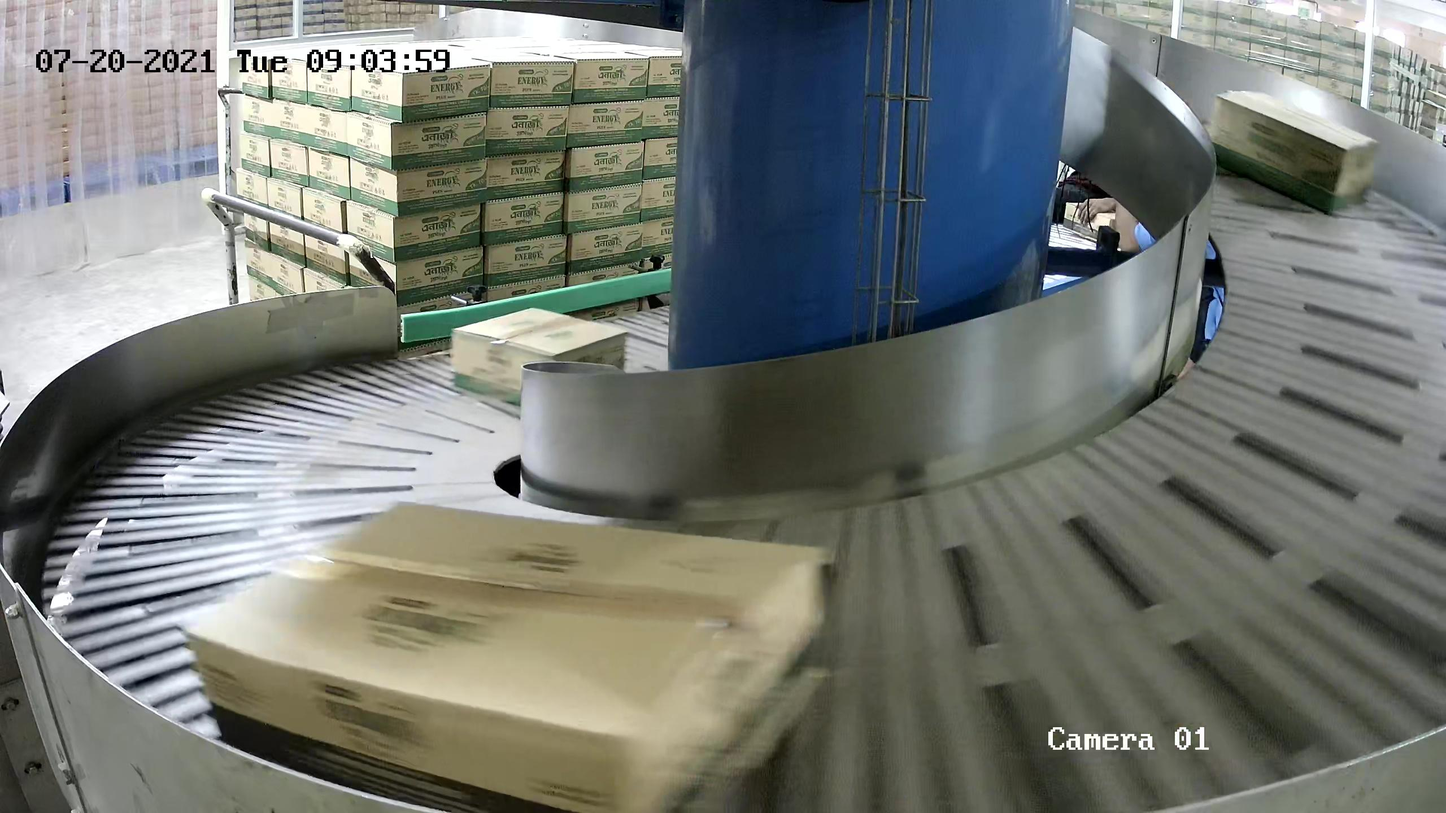Box: (181, 498, 831, 813), (1209, 89, 1381, 216), (450, 307, 629, 407)
